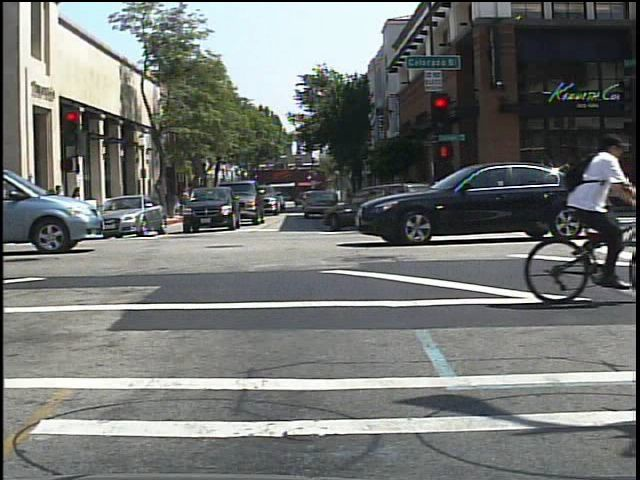person: (550, 115, 631, 294)
